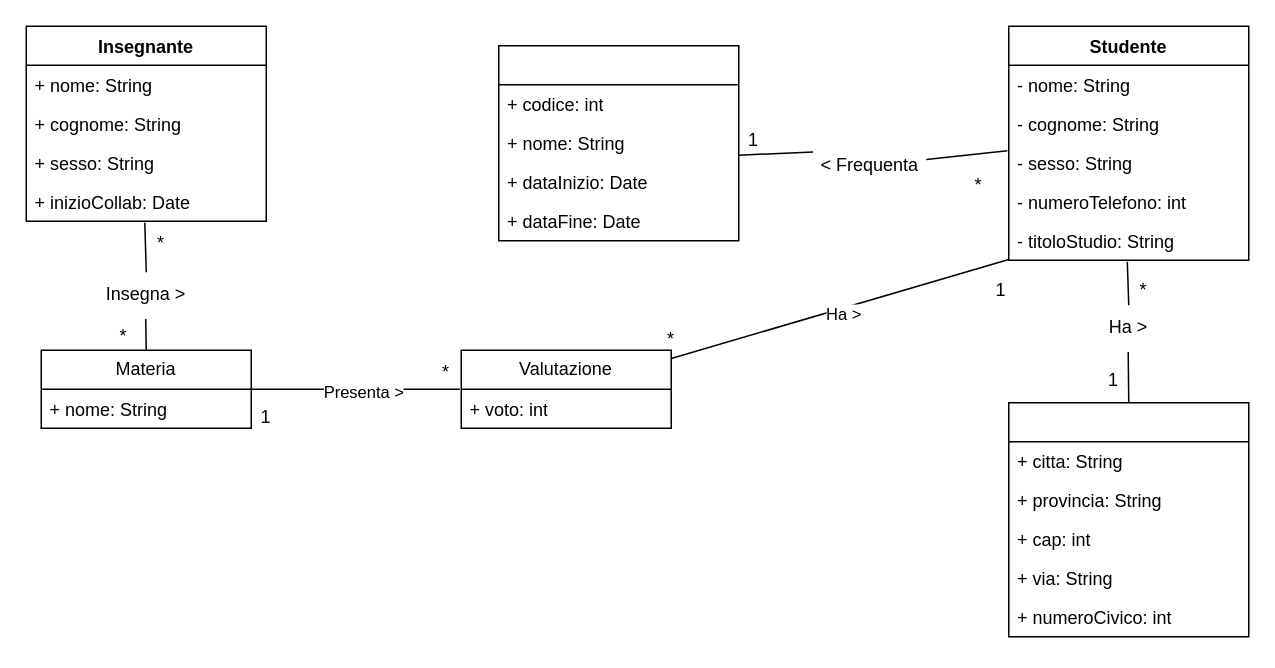
Some shapes in this 1275 by 668 pixel diagram are drawn without their labels. The shapes that lost their labels are listed below. From the top down, each one's box as (x1, y1, x2, y2) in pixels, then its label:
(497, 44, 739, 241): Corso
(1007, 401, 1249, 637): Indirizzo
